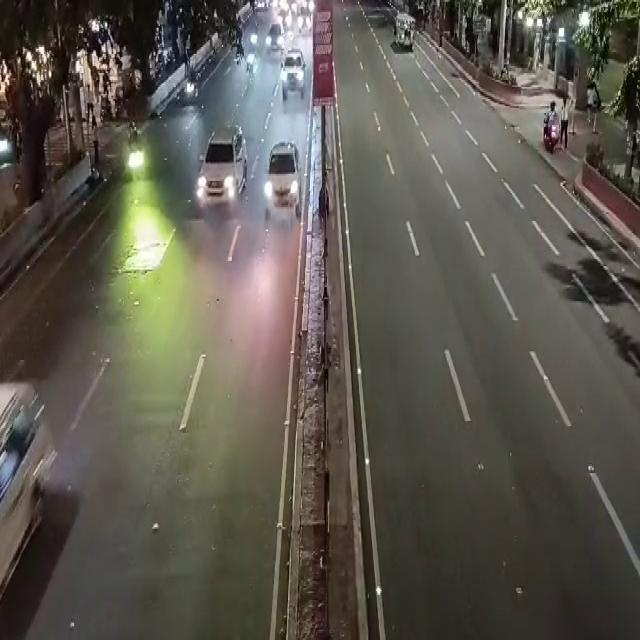car: (194, 132, 247, 216), (267, 138, 304, 224), (281, 46, 311, 99), (265, 20, 285, 50)
jeepney: (394, 8, 417, 51)
motorcycle: (123, 124, 146, 186), (544, 94, 559, 158), (184, 60, 200, 106), (244, 52, 257, 92)
